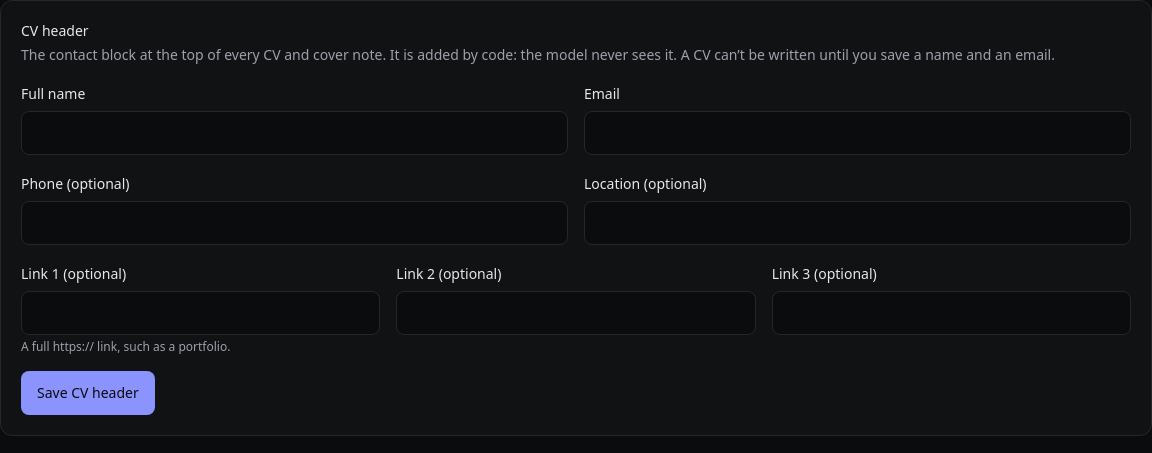
Test: CvHeaderCard › saves a new header, leaving blank optional fields out of the values it sends
In the field labelled "Full name": {"x": 294, "y": 133} [21,111,568,155], type "Alex Example"
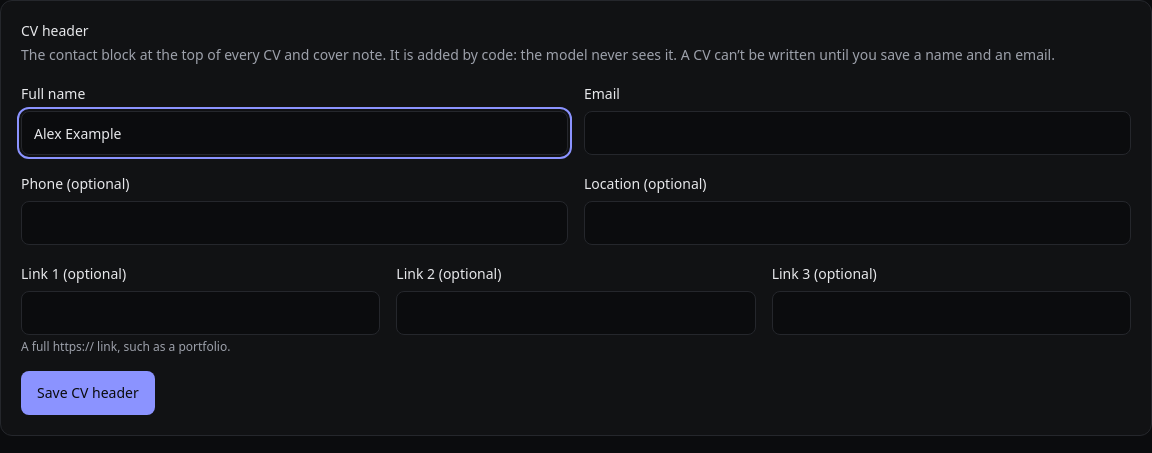
In the field labelled "Email": {"x": 858, "y": 133} [584,111,1131,155], type "alex@example.com"
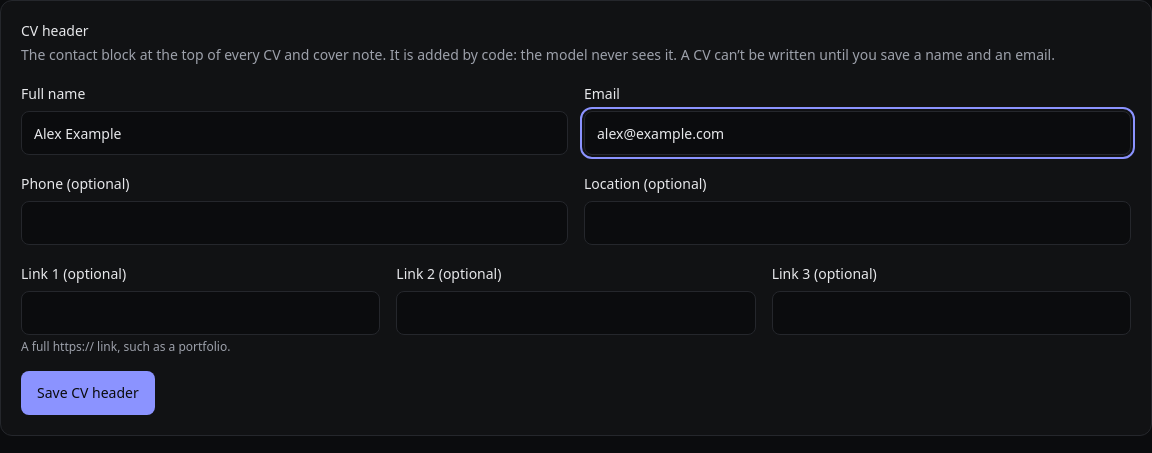
Click the button "Save CV header": {"x": 88, "y": 393} [21,371,155,415]
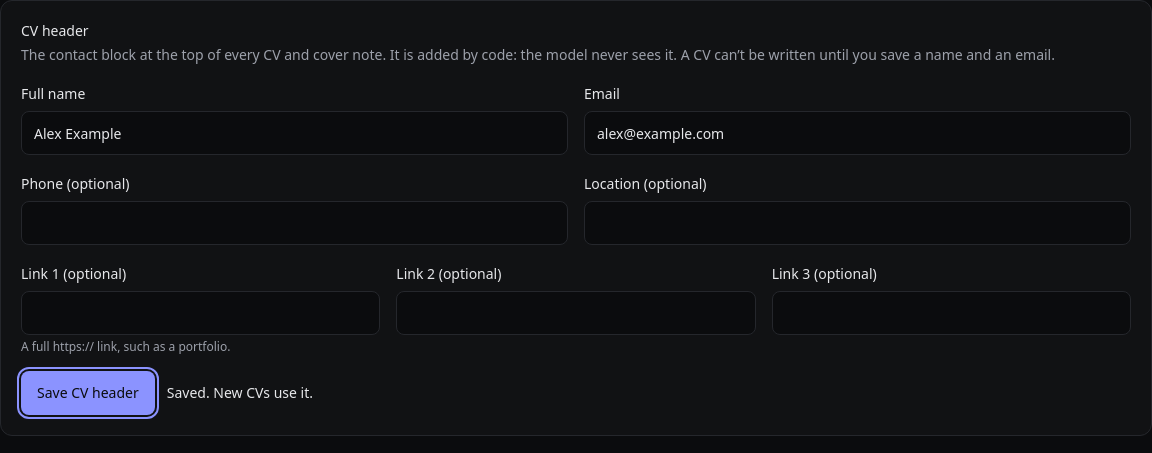
Expected: the text "Saved. New CVs use it." is shown, [167,383,313,402]
